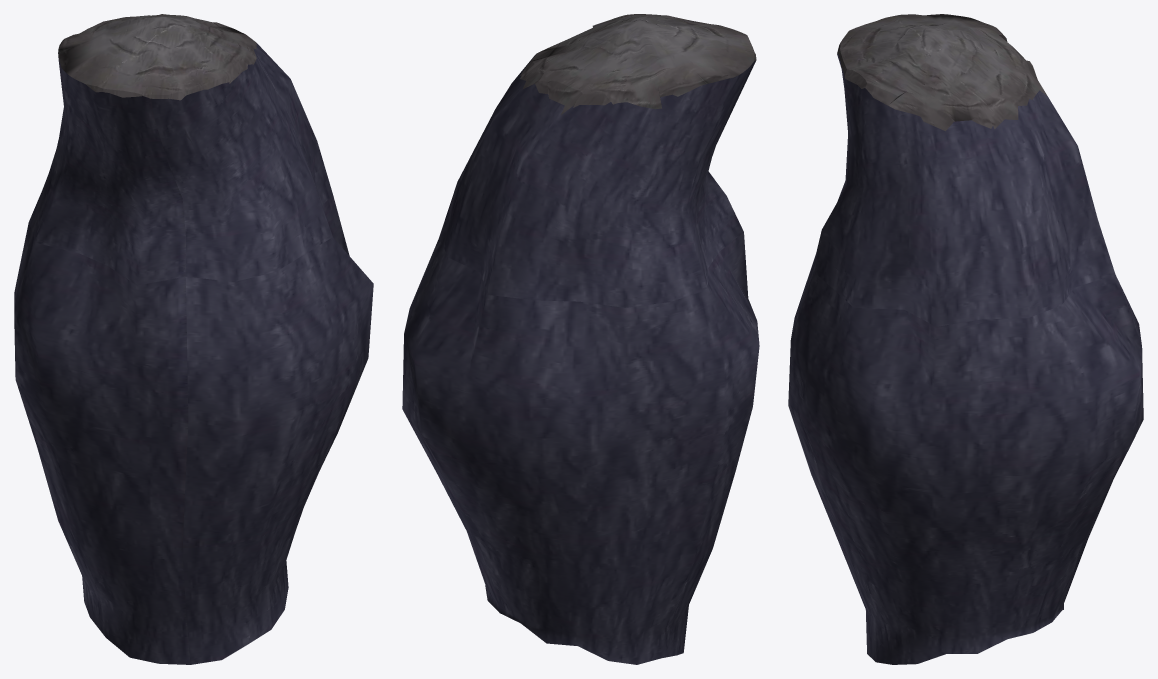
3 renders of one model, left to right at view 1: azimuth 30°, elevation 25°; view 2: azimuth 150°, elevation 25°; view 3: azimuth 270°, elevation 25°, orthographic. The views are drawn at different scales.
Parts seen in each view (by area): view 1: SM_Willow_03_stump_LOD0; view 2: SM_Willow_03_stump_LOD0; view 3: SM_Willow_03_stump_LOD0.
Boxes of the visible parts, left/top/right/bottom form: SM_Willow_03_stump_LOD0: left=14, top=14, right=373, bottom=664; SM_Willow_03_stump_LOD0: left=402, top=14, right=759, bottom=664; SM_Willow_03_stump_LOD0: left=788, top=14, right=1143, bottom=664.
Bounding box in the file's own units: 1.67 × 3.21 × 1.69.
Materials: 1 (1 with a texture image).
